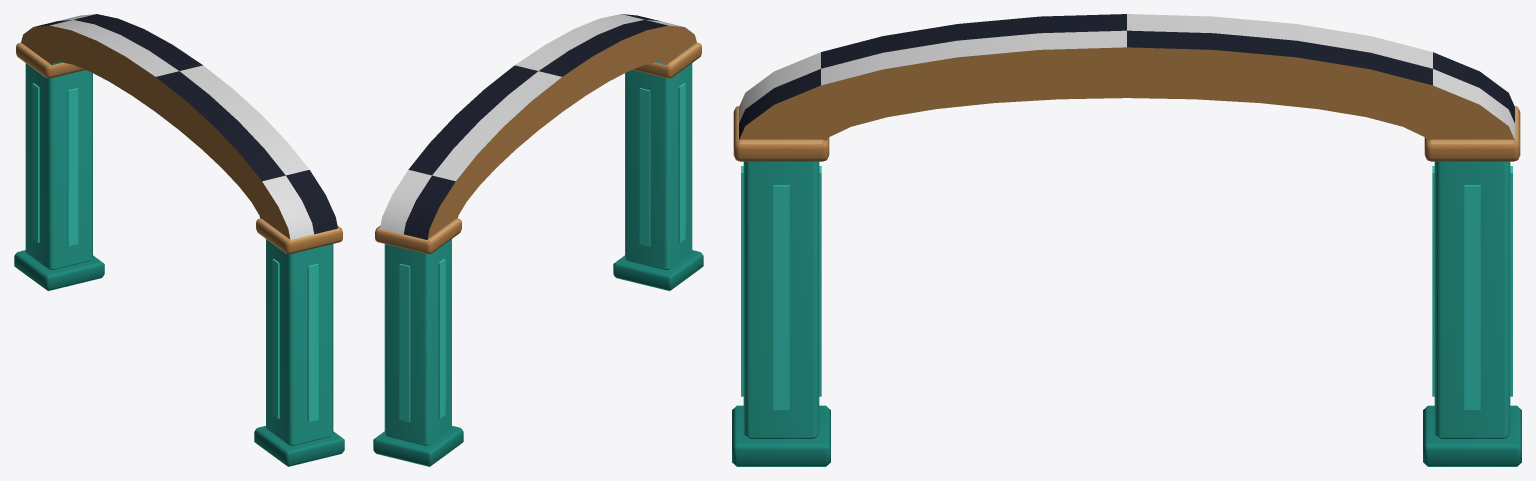
File: tropic-exit.glb
3 renders of one model, left to right at view 1: azimuth 30°, elevation 25°; view 2: azimuth 150°, elevation 25°; view 3: azimuth 270°, elevation 25°, orthographic. The views are drawn at different scales.
Parts seen in each view (by area): view 1: tropic-exit; view 2: tropic-exit; view 3: tropic-exit.
Part boxes in pixels (box(x1,y1,x2,y2)): tropic-exit: box(14, 14, 344, 466); tropic-exit: box(373, 14, 703, 466); tropic-exit: box(732, 14, 1521, 466).
Size of the model in its own units: 0.6 by 2.8 by 4.8.
